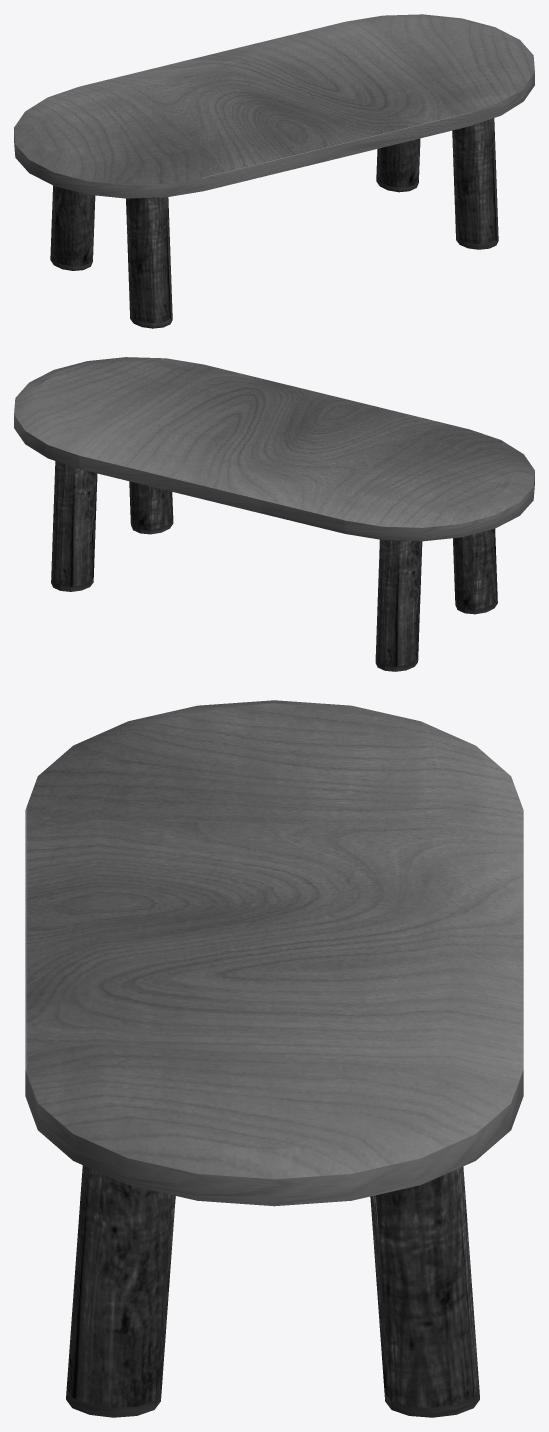
File: Table.fbx
3 renders of one model, top to bottom at view 1: azimuth 30°, elevation 25°; view 2: azimuth 150°, elevation 25°; view 3: azimuth 270°, elevation 25°, orthographic. The views are drawn at different scales.
Parts seen in each view (by area): view 1: Table; view 2: Table; view 3: Table.
Part boxes in pixels (x1,y1,x2,y2): Table: [14, 14, 534, 328]; Table: [14, 357, 534, 671]; Table: [25, 700, 523, 1417].
Size of the model in its own units: 11.1 by 3.42 by 4.88.
